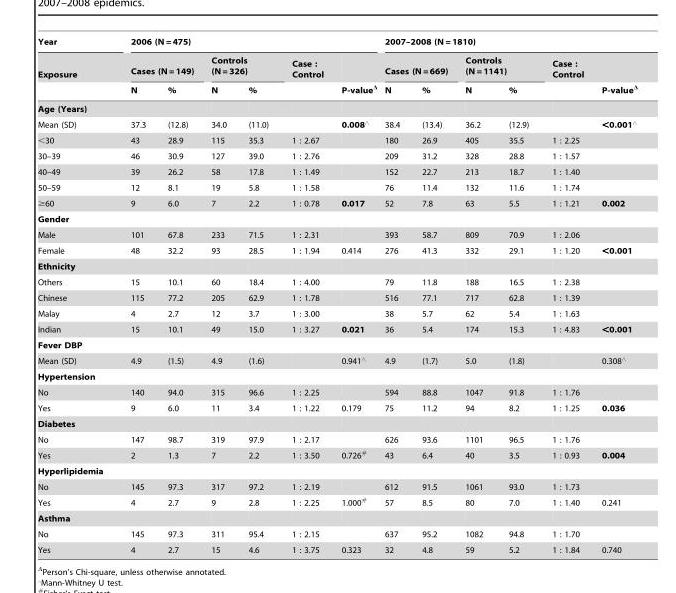table: (37, 37, 637, 554)
table column: (37, 37, 116, 554), (539, 37, 592, 554), (279, 37, 331, 554), (331, 37, 380, 554), (410, 37, 456, 554), (156, 37, 201, 554), (592, 37, 637, 554), (495, 37, 539, 554), (236, 37, 279, 554), (116, 37, 156, 554), (456, 37, 495, 554), (201, 37, 236, 554), (380, 37, 410, 554)
table column header: (37, 37, 637, 99)
table projected row header: (37, 99, 637, 116), (37, 258, 637, 274), (37, 368, 637, 384), (37, 415, 637, 431), (37, 510, 637, 526), (37, 211, 637, 226), (37, 337, 637, 352), (37, 463, 637, 478)
table row: (37, 50, 637, 81), (37, 81, 637, 99), (37, 99, 637, 116), (37, 446, 637, 463), (37, 493, 637, 510), (37, 116, 637, 132), (37, 132, 637, 148), (37, 163, 637, 179), (37, 179, 637, 195), (37, 195, 637, 211), (37, 226, 637, 242), (37, 242, 637, 258), (37, 258, 637, 274), (37, 289, 637, 305), (37, 305, 637, 321), (37, 321, 637, 337), (37, 352, 637, 368), (37, 368, 637, 384), (37, 384, 637, 400), (37, 415, 637, 431), (37, 510, 637, 526), (37, 148, 637, 163), (37, 211, 637, 226), (37, 274, 637, 289), (37, 337, 637, 352), (37, 400, 637, 415), (37, 431, 637, 446), (37, 463, 637, 478), (37, 478, 637, 493), (37, 526, 637, 541), (37, 37, 637, 50), (37, 541, 637, 554)
table spanning cell: (37, 37, 116, 99), (116, 37, 380, 50), (380, 37, 637, 50), (116, 50, 201, 81), (539, 50, 592, 99), (456, 50, 539, 81), (279, 50, 331, 99), (201, 50, 279, 81), (331, 50, 380, 99), (380, 50, 456, 81), (592, 50, 637, 99)
